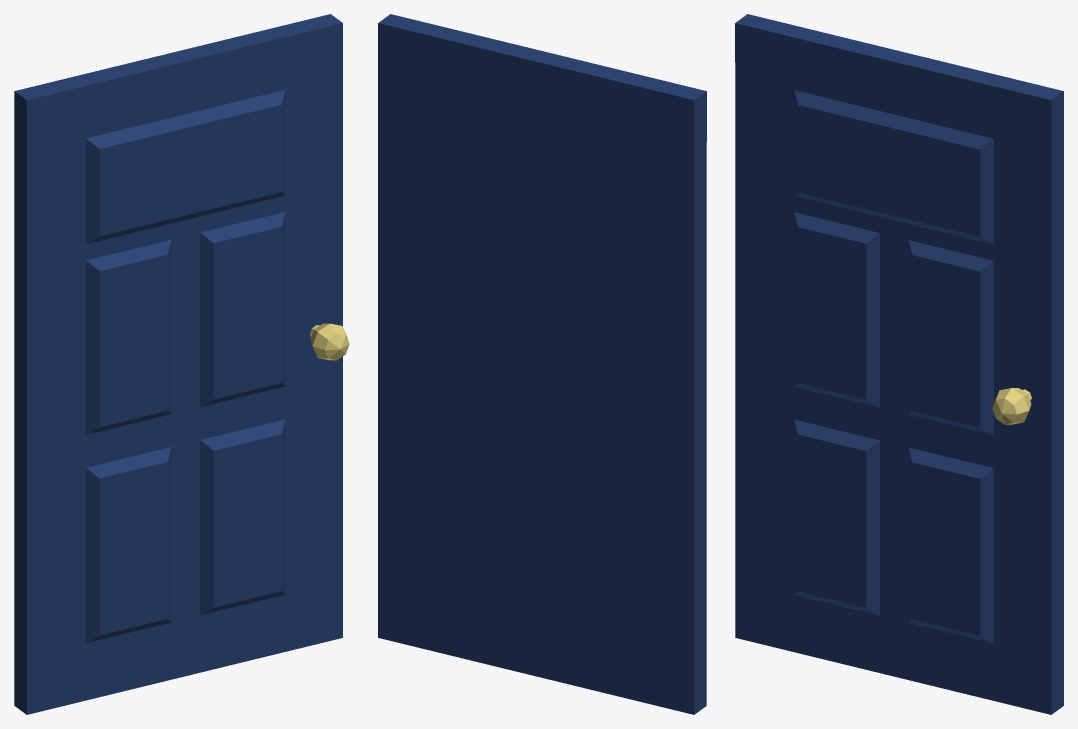
The model's file is Itr_Door_02.FBX.
3 renders of one model, left to right at view 1: azimuth 30°, elevation 25°; view 2: azimuth 150°, elevation 25°; view 3: azimuth 330°, elevation 25°, orthographic.
Parts seen in each view (by area): view 1: Itr_Door_02; view 2: Itr_Door_02; view 3: Itr_Door_02.
Part boxes in pixels (x1=…): Itr_Door_02: x1=14, y1=14, x2=349, y2=714; Itr_Door_02: x1=378, y1=14, x2=706, y2=714; Itr_Door_02: x1=735, y1=14, x2=1063, y2=714.
Bounding box in the file's own units: 43.59 × 80.97 × 8.56.
